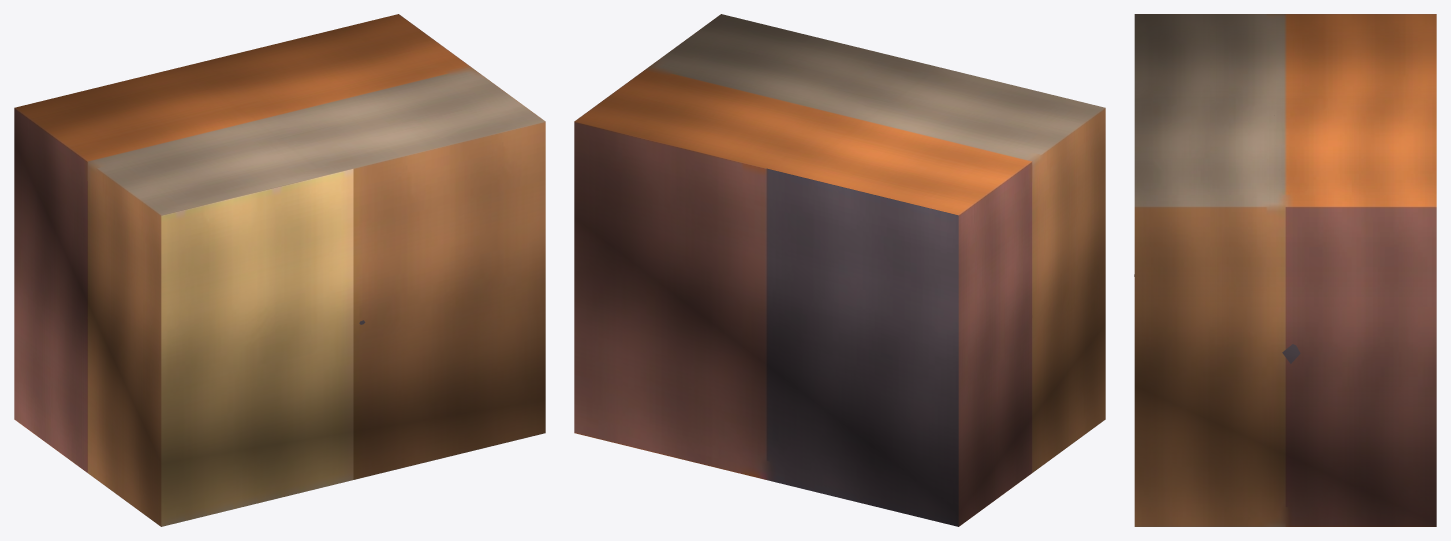
The model's file is rock_volcanic_c.glb.
3 renders of one model, left to right at view 1: azimuth 30°, elevation 25°; view 2: azimuth 150°, elevation 25°; view 3: azimuth 270°, elevation 25°, orthographic. The views are drawn at different scales.
Parts seen in each view (by area): view 1: col; view 2: col; view 3: col.
Part boxes in pixels (bbox=[...]): col: bbox=[14, 14, 545, 526]; col: bbox=[574, 14, 1105, 526]; col: bbox=[1134, 14, 1436, 526].
Bounding box in the file's own units: 2.54 × 1.96 × 1.68.
Materials: 1 (1 with a texture image).
